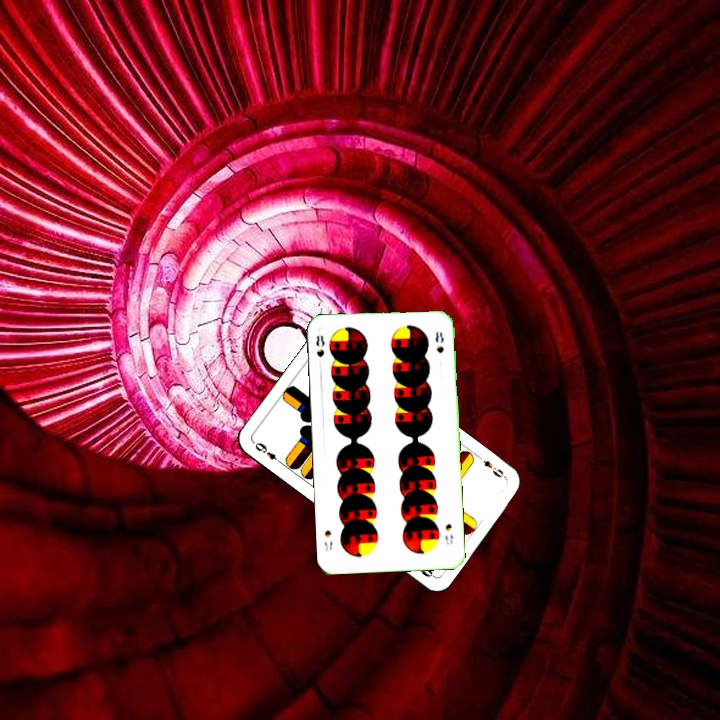E9: (474, 452, 509, 481), (251, 438, 285, 467)
S8: (312, 331, 327, 370), (441, 519, 456, 547)
